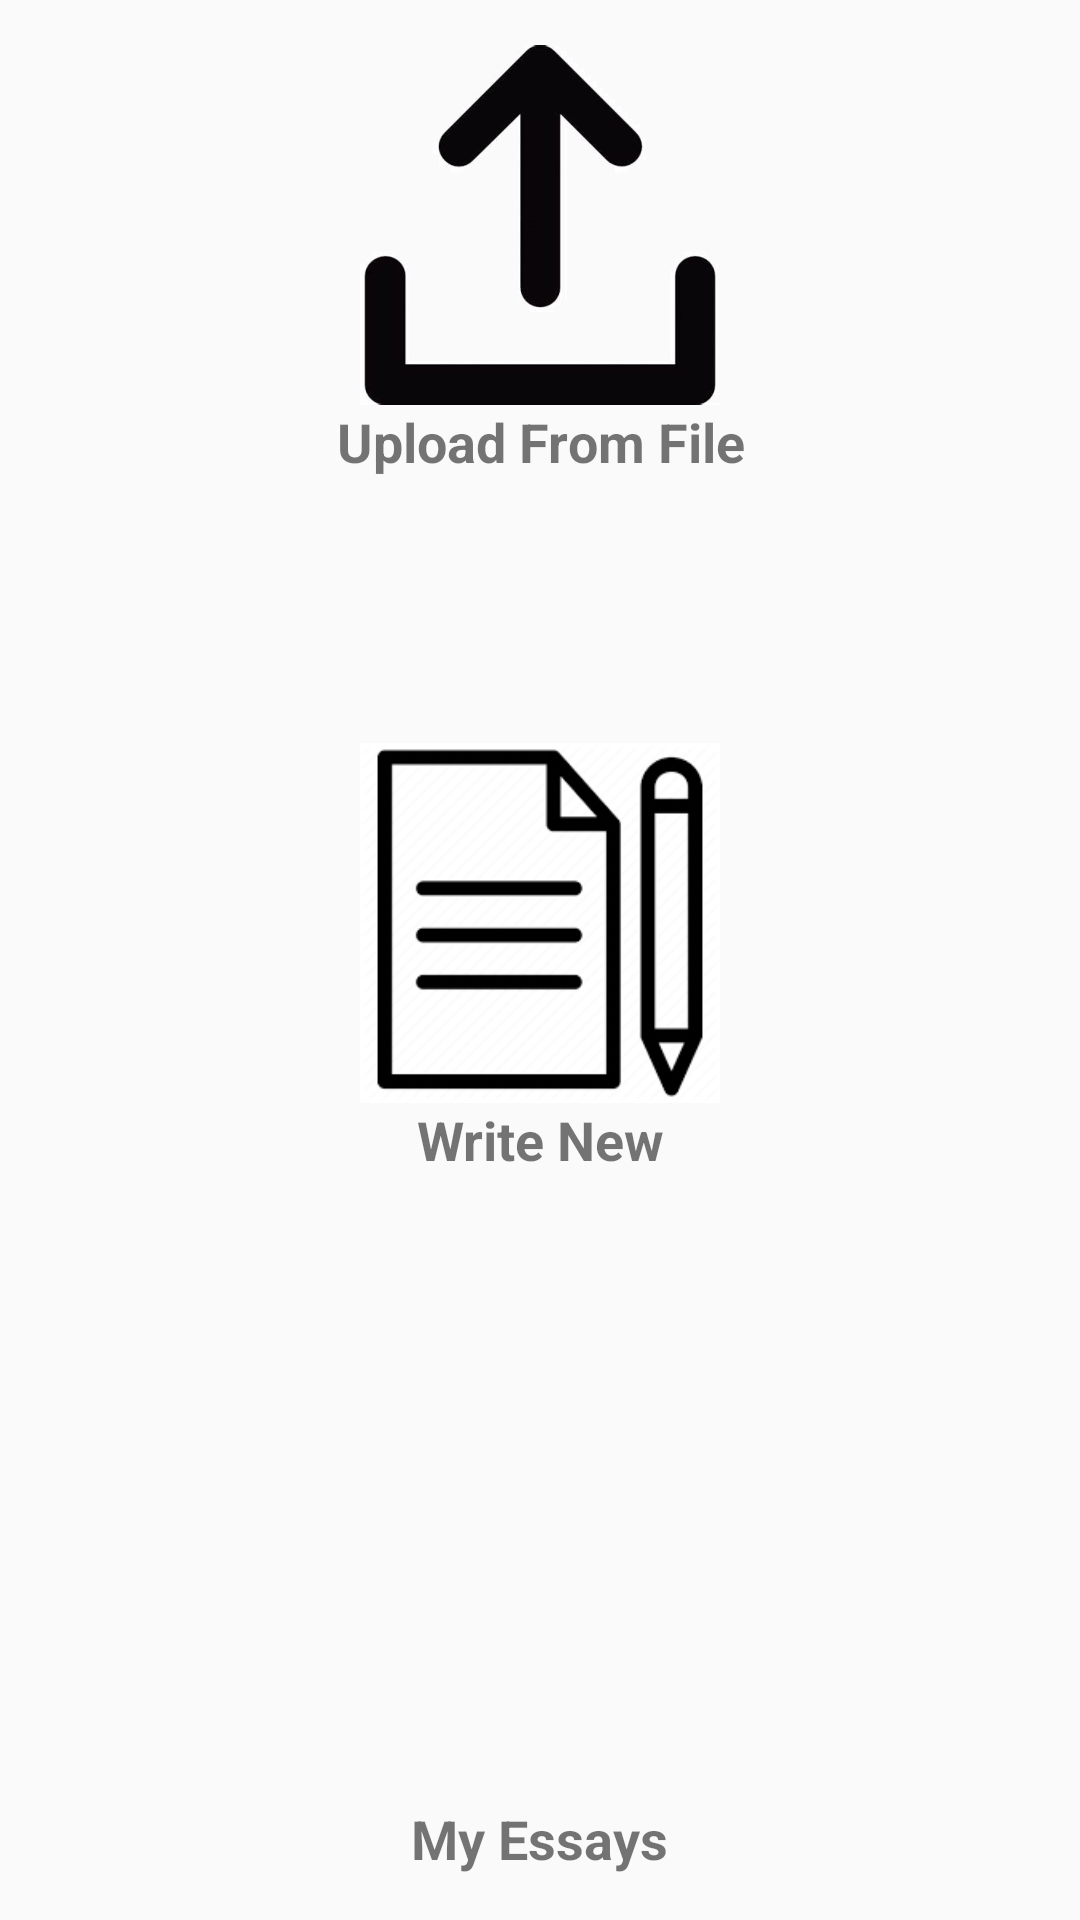

Where to tap for icons on this 1080 x 1920 app screen, as point (x, y):
essay: point (540, 923)
